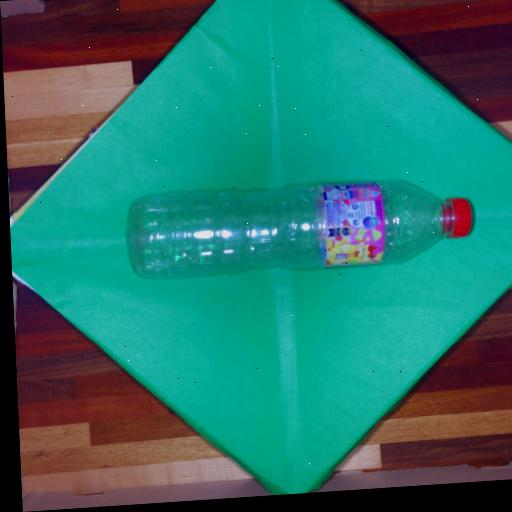bottle: (130, 181, 471, 277)
